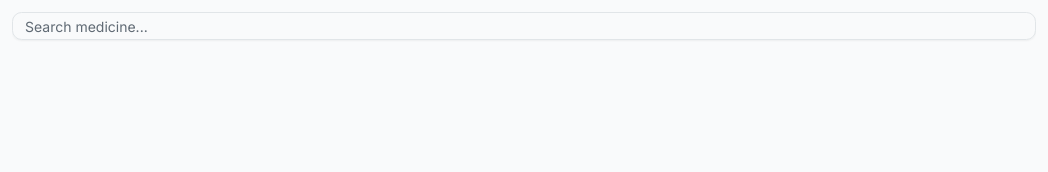
Test: MedicineSelect › does not include quantity in input value when selecting a product
Later steps or results of the test are not shown.
Focus the dropdown at (524, 26), box x1=12 y1=12 x2=1036 y2=40
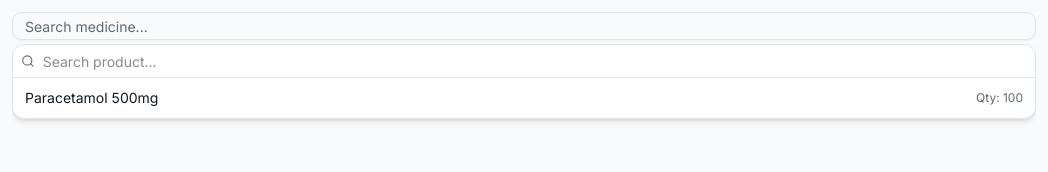
Expected: the text "Paracetamol 500mg" is shown, x1=25 y1=88 x2=158 y2=108
